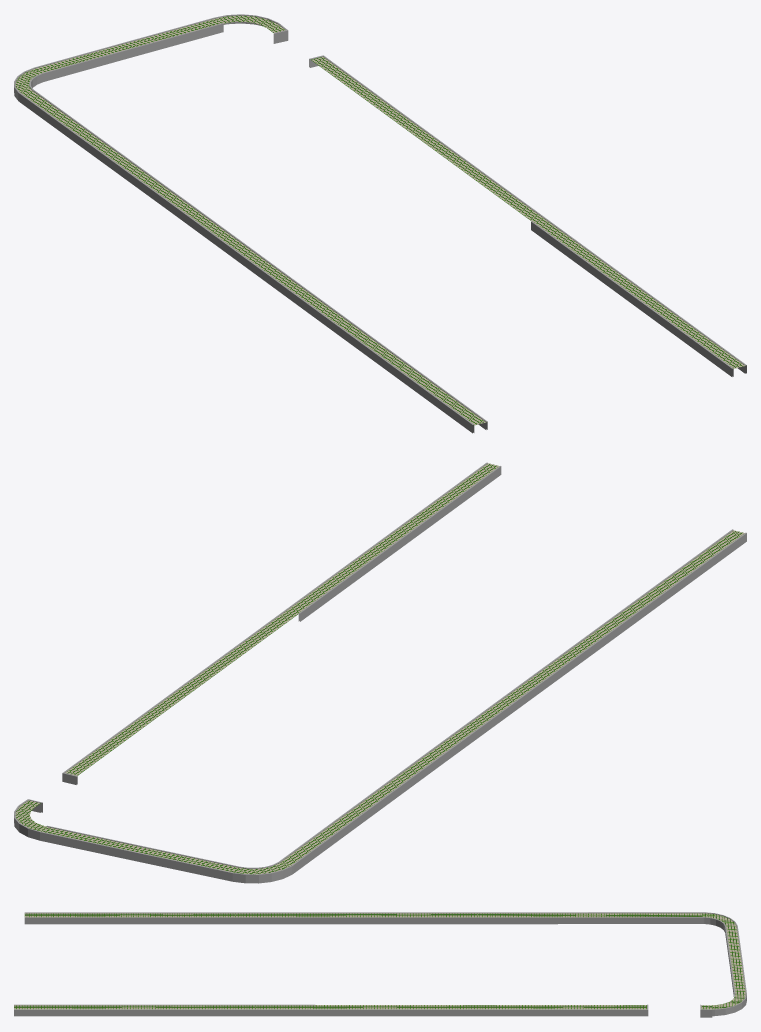
The model's file is FootPathsRoads_CH.fbx.
3 renders of one model, top to bottom at view 1: azimuth 30°, elevation 25°; view 2: azimuth 150°, elevation 25°; view 3: azimuth 270°, elevation 25°, orthographic. The views are drawn at different scales.
Visible parts, largest first — view 1: Path, White; view 2: Path, White; view 3: White, Path.
Boxes of the visible parts, box(x1,y1,x2,y2) form: Path: box(15, 15, 745, 425); White: box(14, 14, 746, 433); Path: box(15, 463, 744, 874); White: box(14, 462, 746, 883); White: box(14, 912, 746, 1017); Path: box(14, 913, 745, 1009).
Size of the model in its own units: 1200 by 46.11 by 3806.
